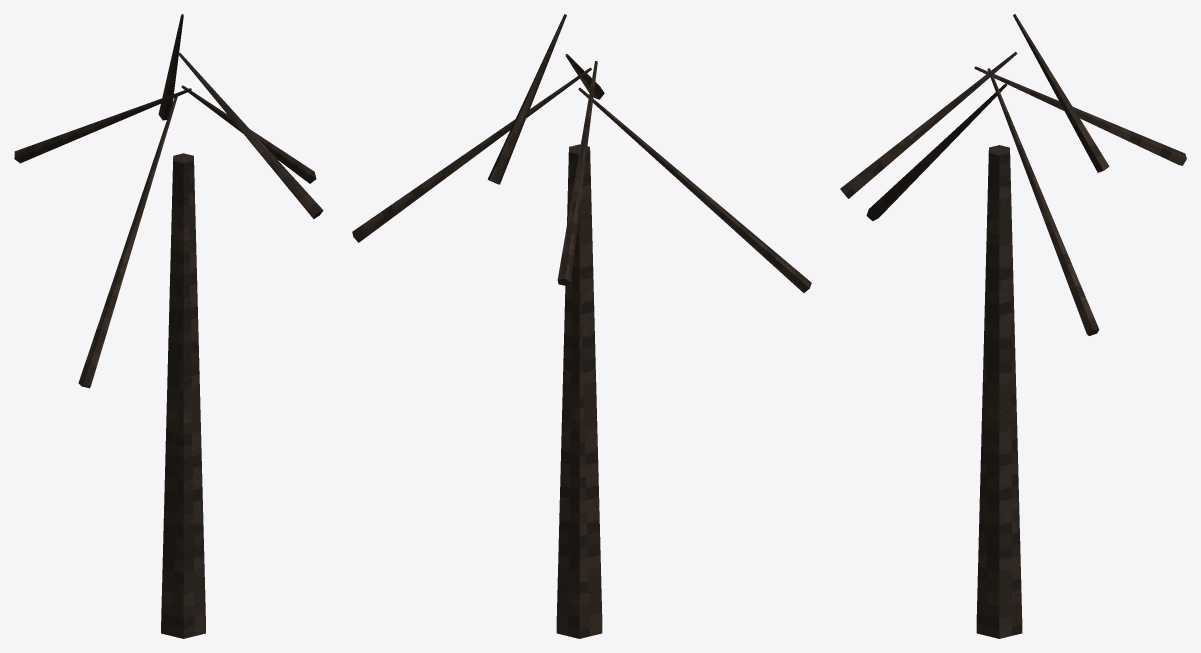
Rendered from ENV_C_TreeDeadTall.fbx.
The picture shows the model from 3 angles, left to right: view 1: azimuth 30°, elevation 25°; view 2: azimuth 150°, elevation 25°; view 3: azimuth 270°, elevation 25°; orthographic projection.
Visible parts, largest first — view 1: ENV_C_TreeDeadTall; view 2: ENV_C_TreeDeadTall; view 3: ENV_C_TreeDeadTall.
Part boxes in pixels (bbox=[...]): ENV_C_TreeDeadTall: bbox=[14, 14, 323, 638]; ENV_C_TreeDeadTall: bbox=[352, 14, 811, 638]; ENV_C_TreeDeadTall: bbox=[840, 14, 1186, 638].
Size of the model in its own units: 397 by 672 by 342.
1 material, 1 textured.
